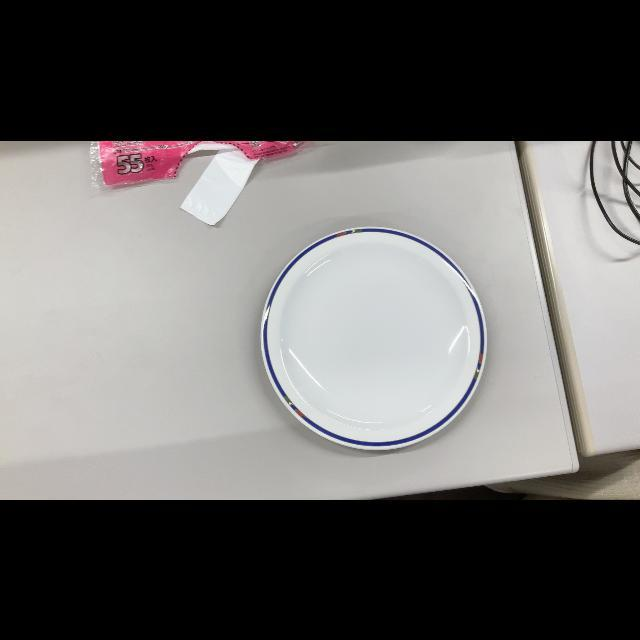plate: (256, 222, 488, 456)
